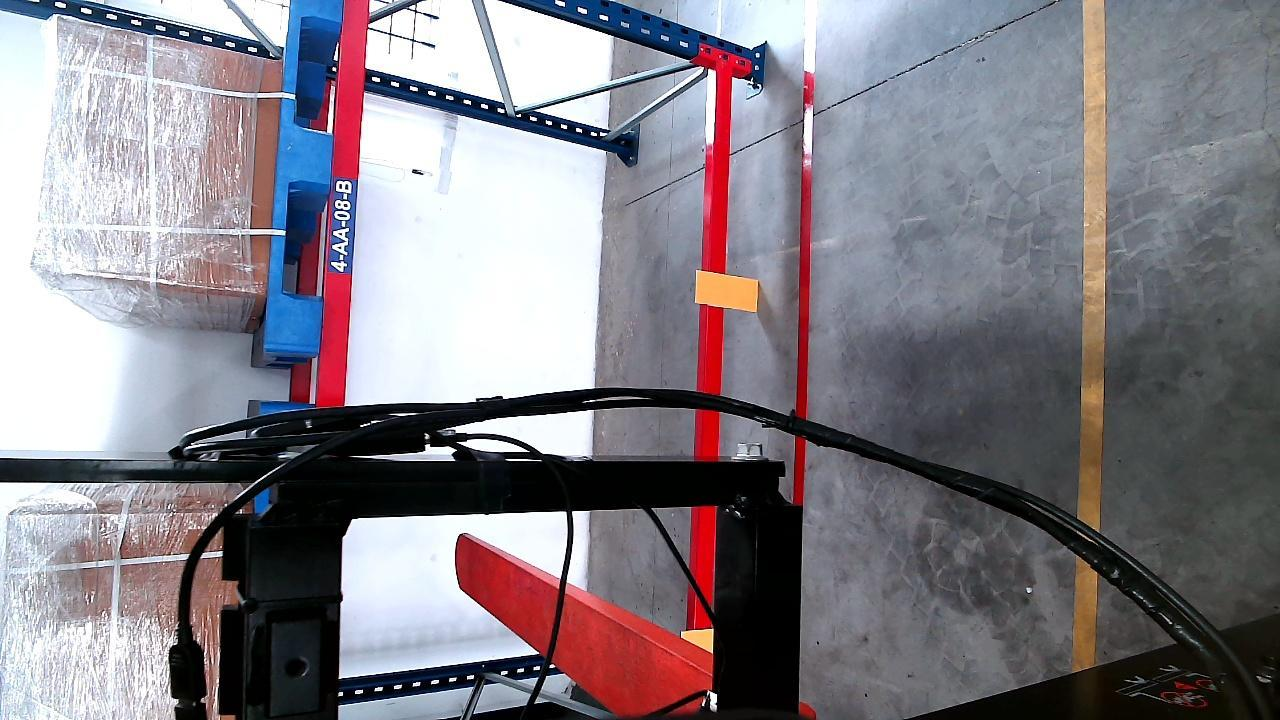red_line: (794, 2, 818, 501)
yellow_line: (1079, 1, 1104, 530)
